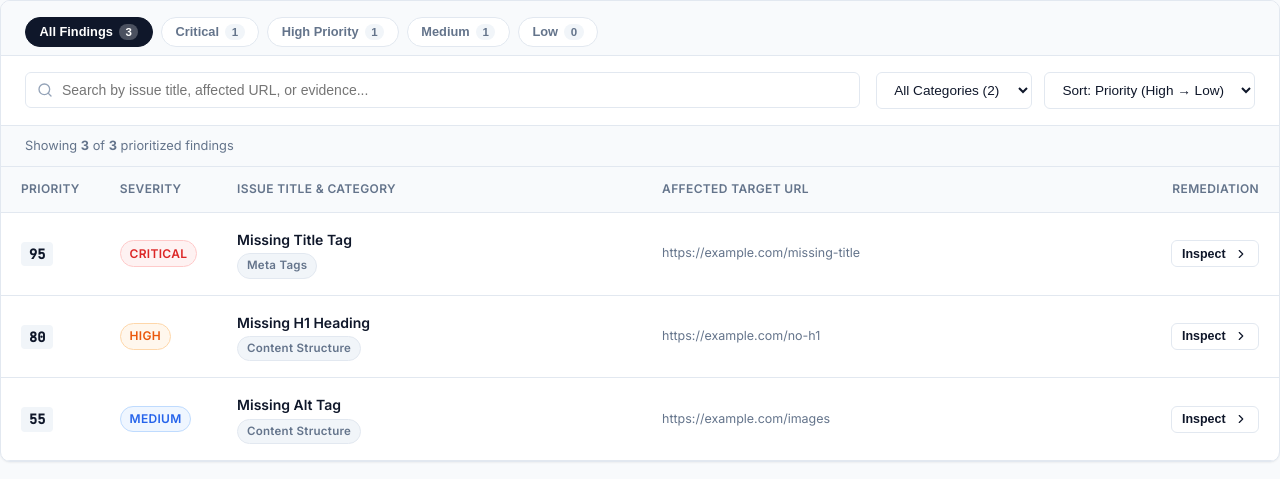
Scenario: IssueTable component › filters issues based on search query
Type "Title" into the field with placeholder "Search by issue title, affected URL, or evidence...".
click(442, 90); type("Title")  # box [25, 72, 860, 108]
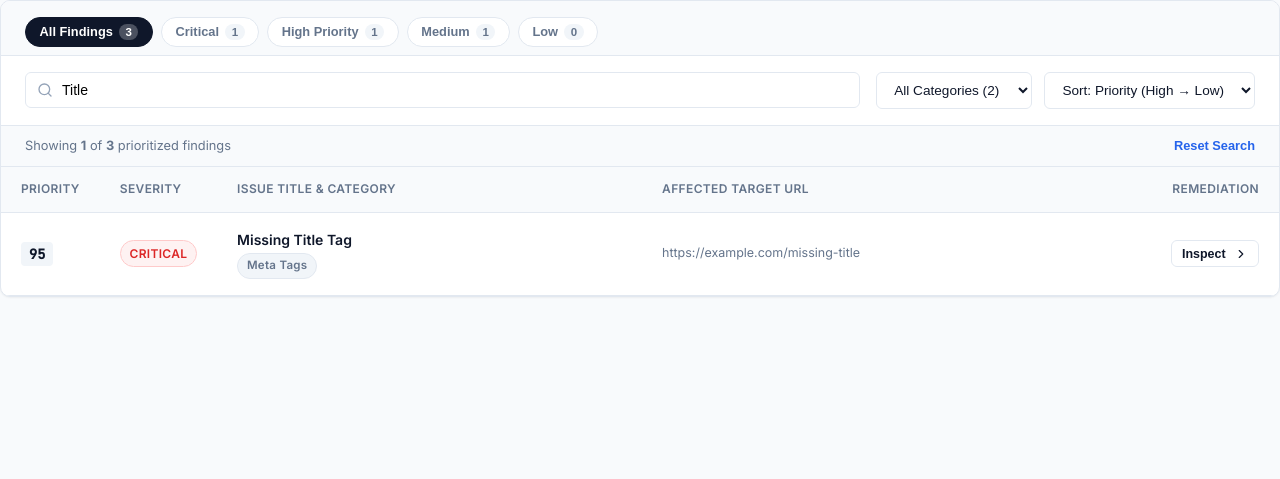
Expected: the text "Missing Title Tag" is shown, [237, 231, 352, 248]
Result: the text "Missing H1 Heading" is gone
